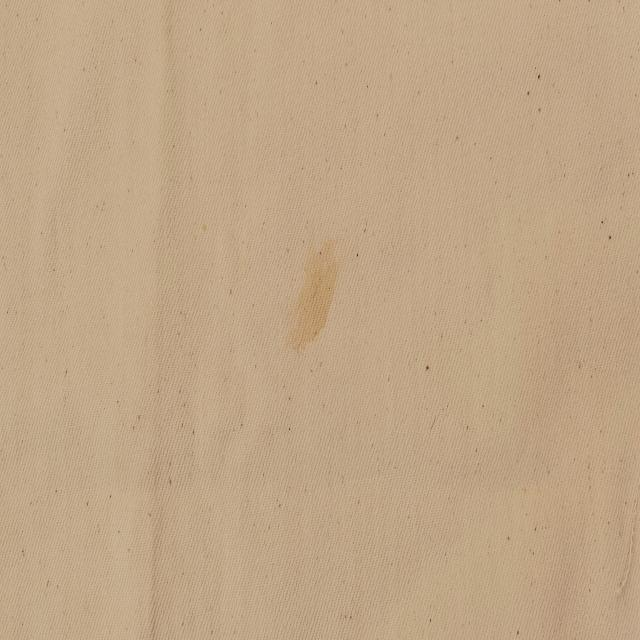taaaches: (292, 235, 343, 362)
